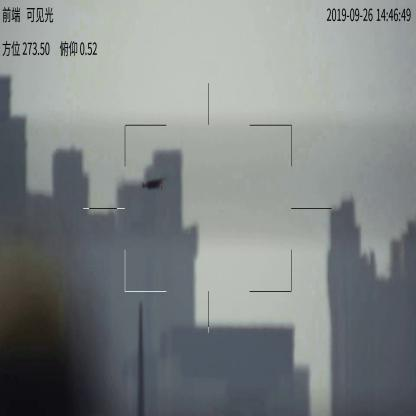uav: (142, 176, 169, 192)
